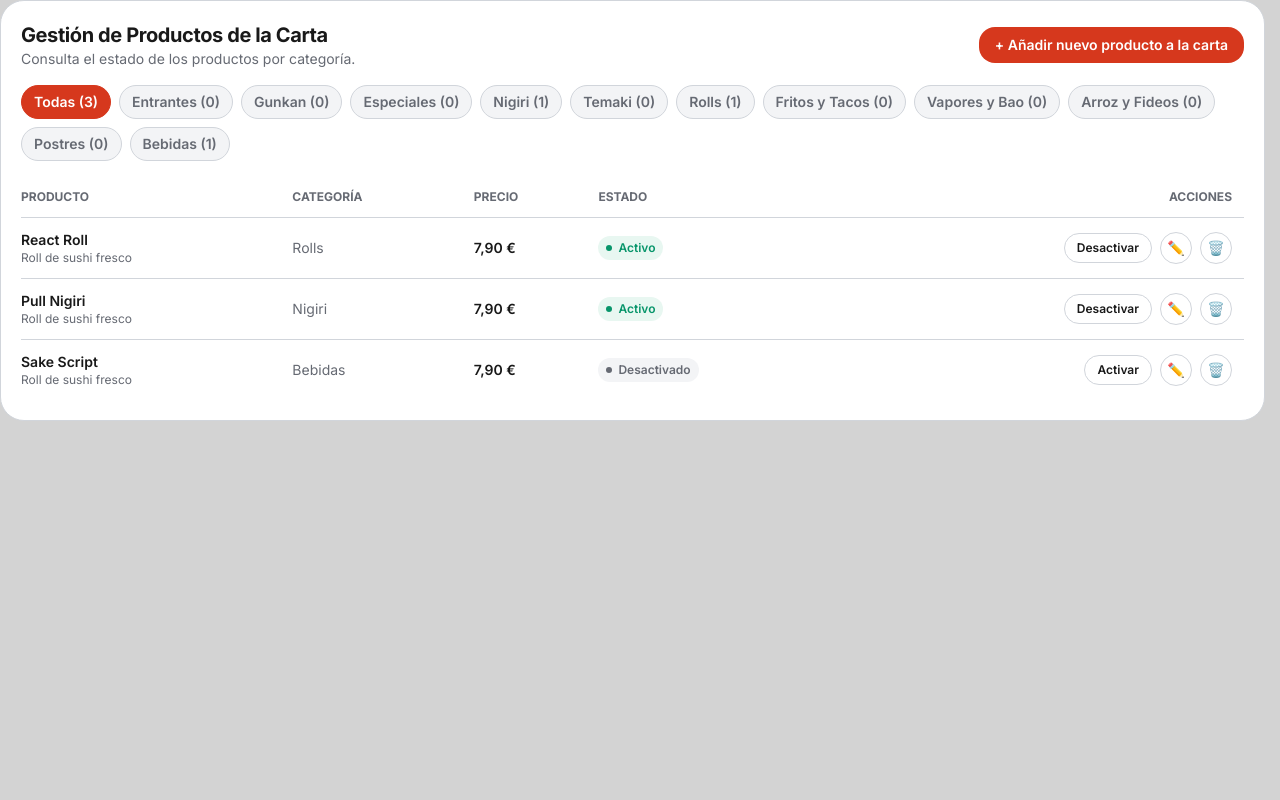
Test: AdminProductsPanel › activating and deactivating › shows an error and keeps the row unchanged when the backend fails
Click the button "Desactivar" in the row of "React Roll".
click(1108, 248)  # box [1064, 233, 1152, 263]
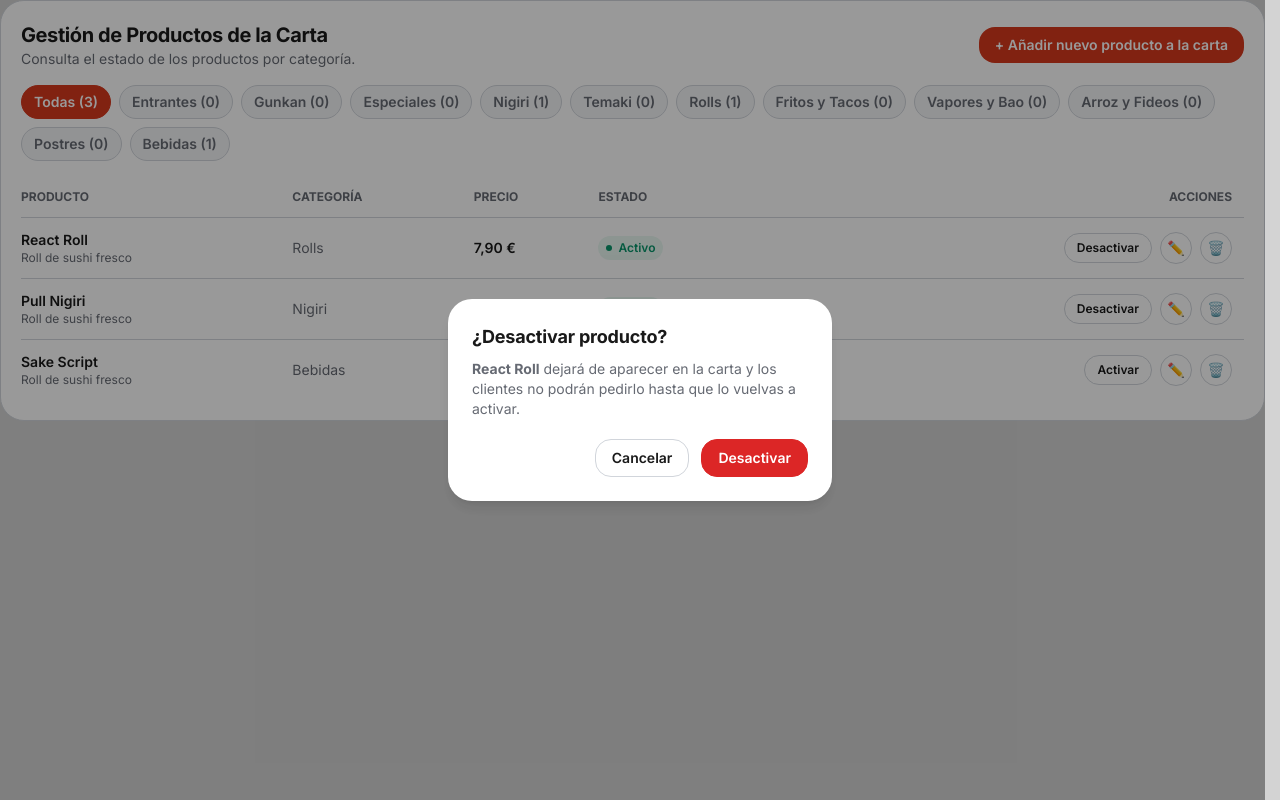
Click the button with class "confirm-dialog__button--danger".
click(755, 458)  # box [701, 439, 808, 477]
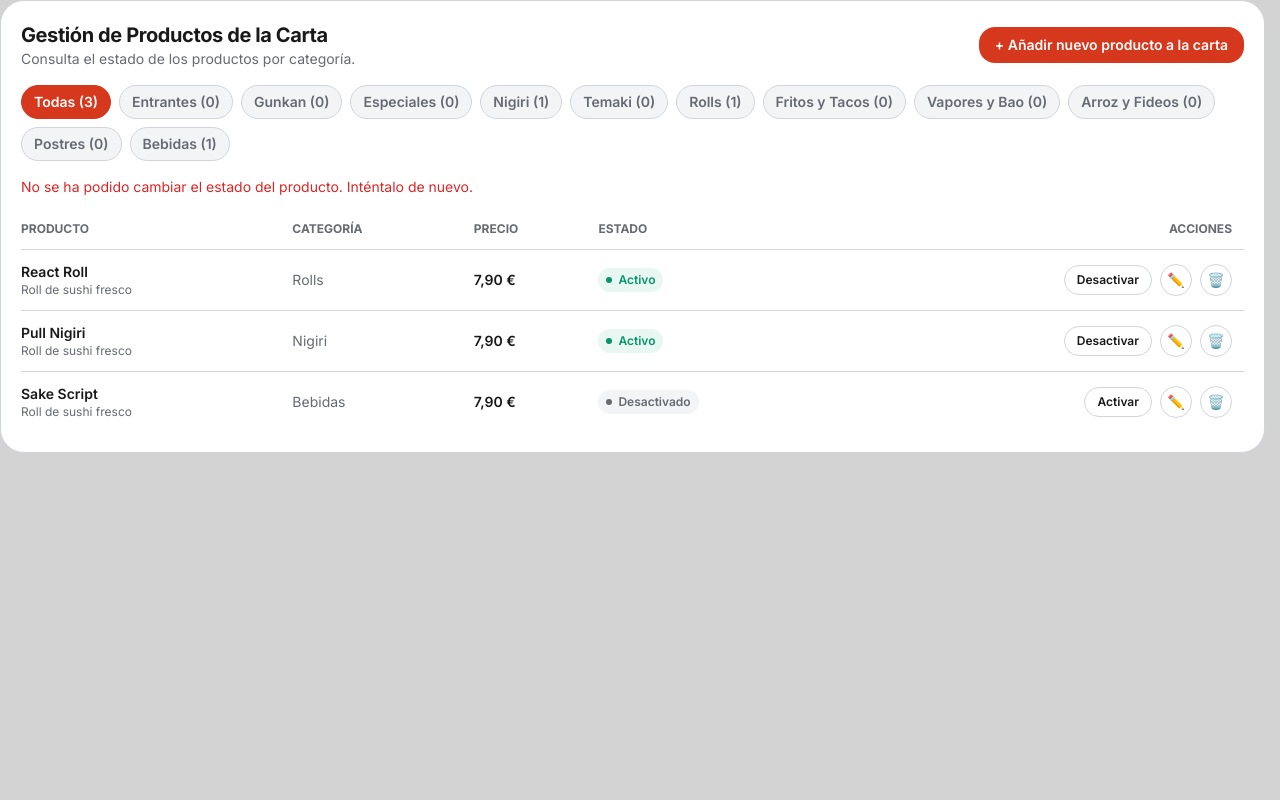
expect the button "Desactivar" in the row of "React Roll" is shown: met, box [1064, 265, 1152, 295]
expect the text with class "admin-products__action-error" reads "No se ha podido cambiar el estado del producto. Inténtalo de nuevo.": met, box [21, 178, 473, 195]
